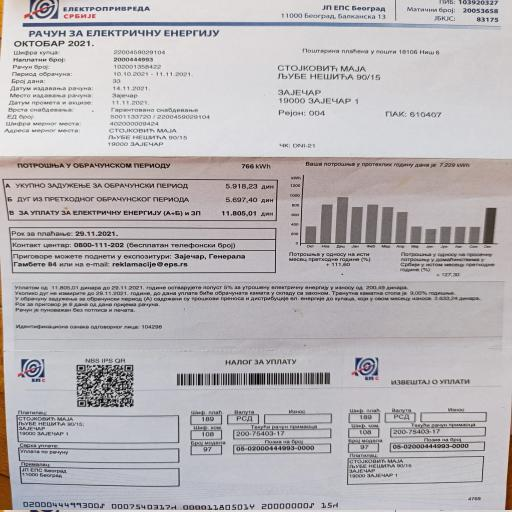racun_za_struju: (0, 156, 284, 242)
